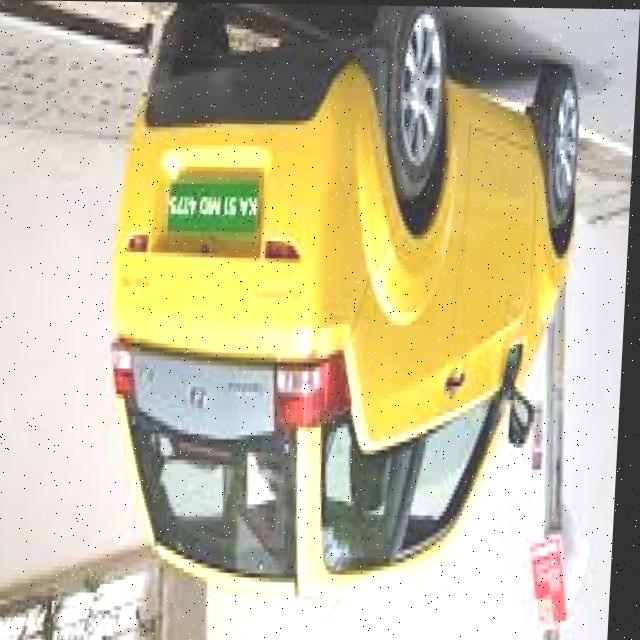plate: (166, 179, 266, 239)
